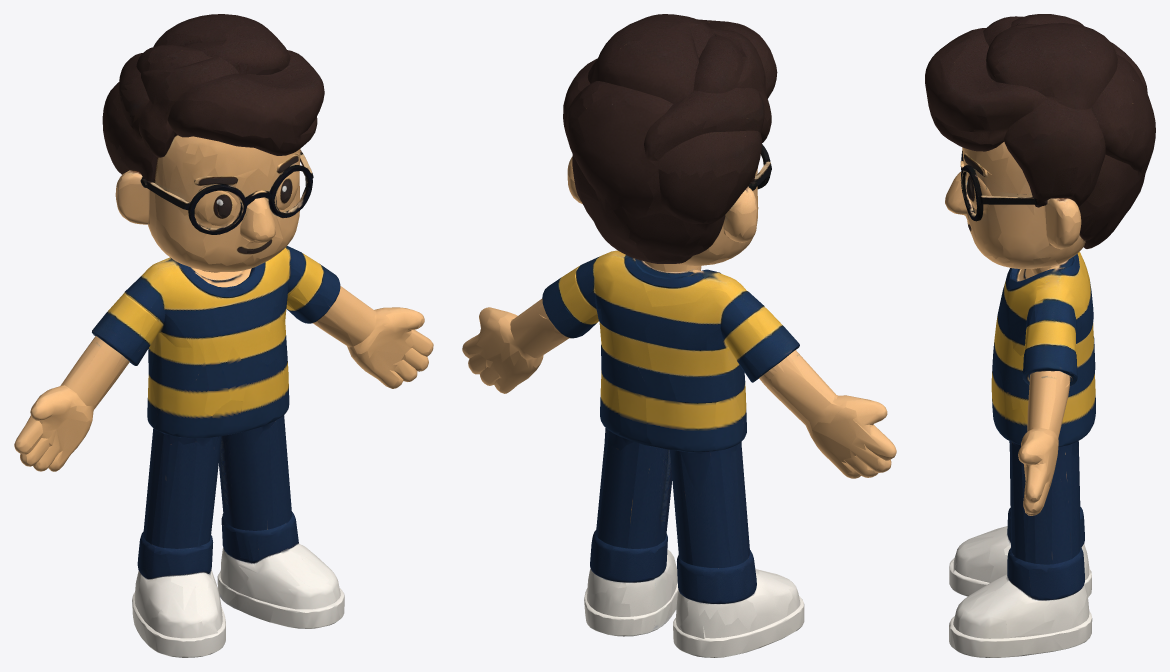
The picture shows the model from 3 angles, left to right: view 1: azimuth 30°, elevation 25°; view 2: azimuth 150°, elevation 25°; view 3: azimuth 270°, elevation 25°; orthographic projection. The views are drawn at different scales.
Bounding box in the file's own units: 1.43 × 1.9 × 0.6792.
1 material, 1 textured.
